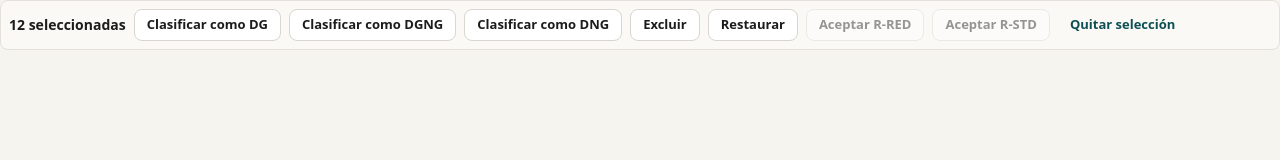
it: BarraMasiva · clasificar en masa (CA-7) › 409 periodo_generado: muestra el mensaje, no hay informe ni operación registrada
Click the button "Clasificar como DG" at (207, 25), box [134,9,281,41]
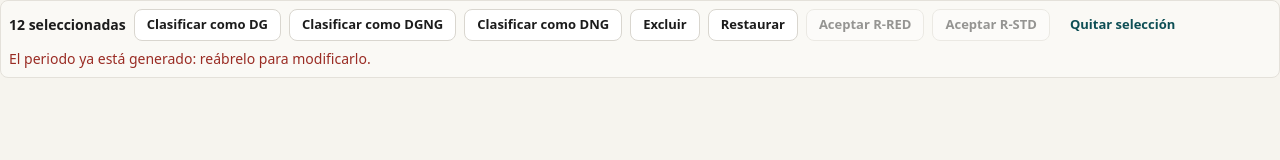
Expected: the text "El periodo ya está generado: reábrelo para modificarlo." is shown, [9,49,371,68]
